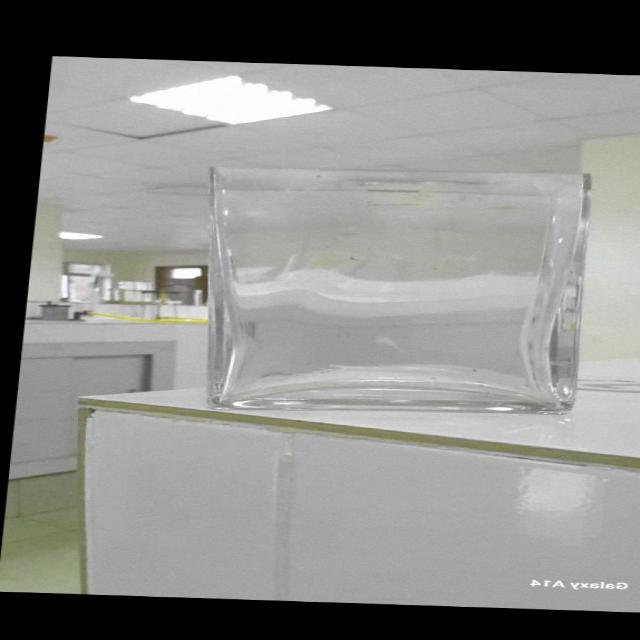TLC Tank: (185, 158, 599, 422)
